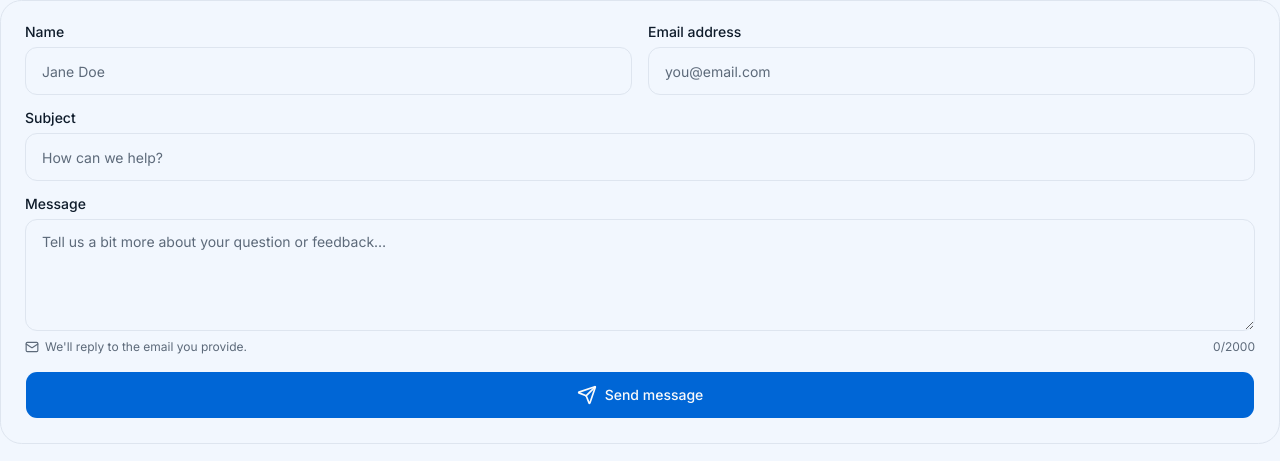
Scenario: ContactForm › shows the success state after a valid submit
The width and height of the screenshot is (1280, 461).
Type "New Visitor" into the field labelled "Name" at (328, 71), box left=25, top=47, right=632, bottom=95
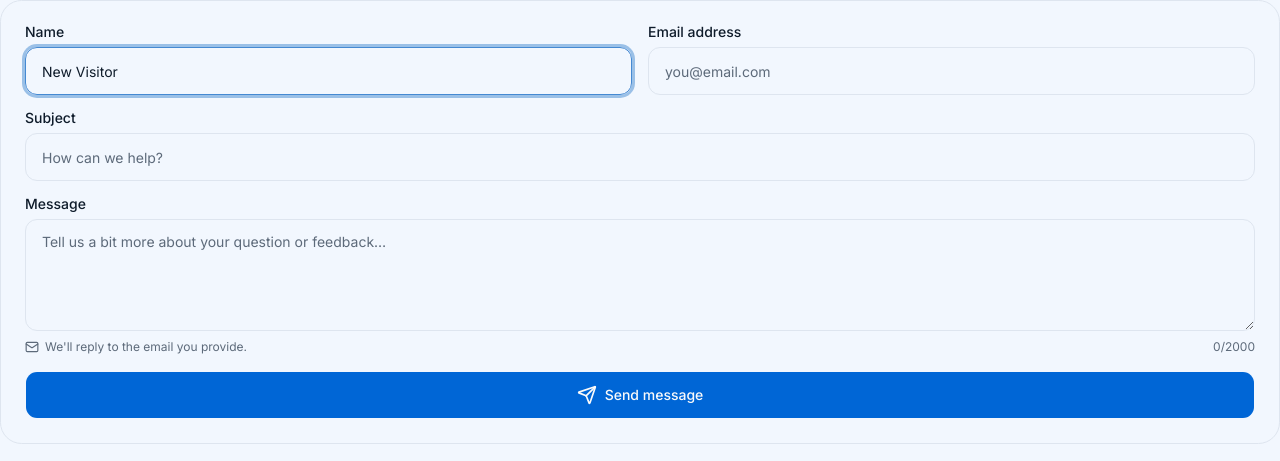
Type "visitor@example.com" into the field labelled "Email address" at (952, 71), box left=648, top=47, right=1255, bottom=95
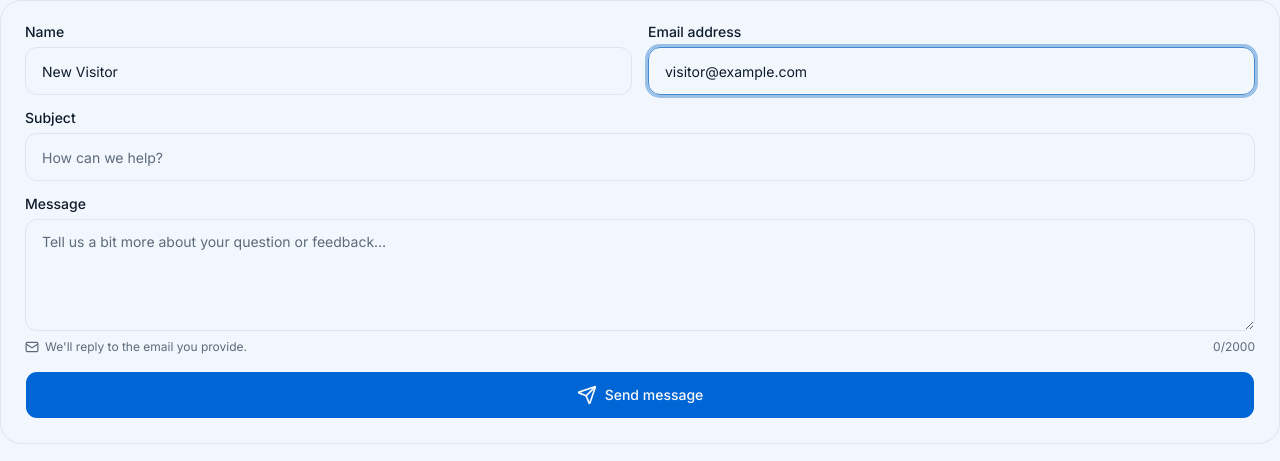
Type "Thanks" into the field labelled "Subject" at (640, 157), box left=25, top=133, right=1255, bottom=181
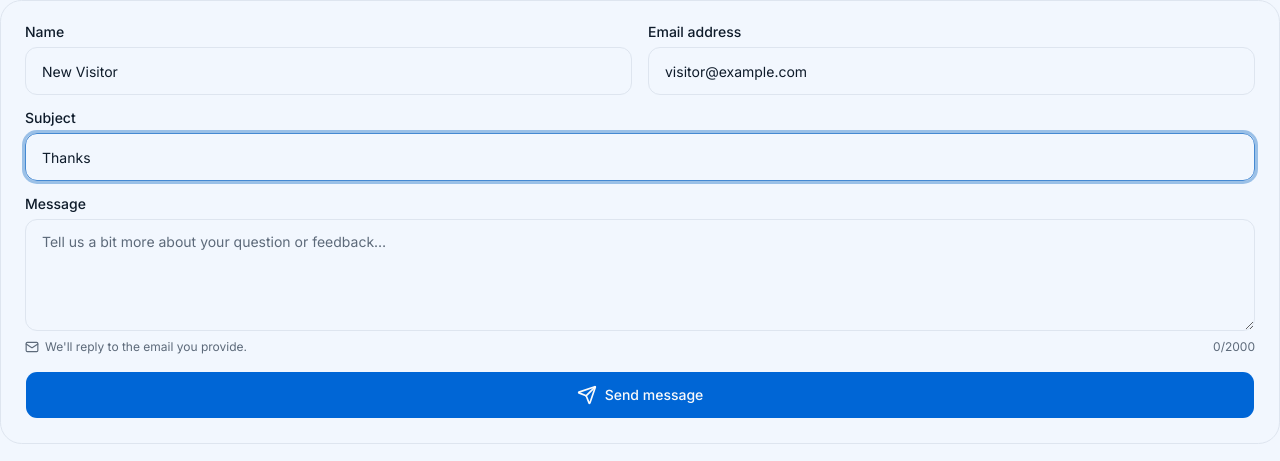
Type "Just submitting a friendly note." into the text box labelled "Message" at (640, 275), box left=25, top=219, right=1255, bottom=331
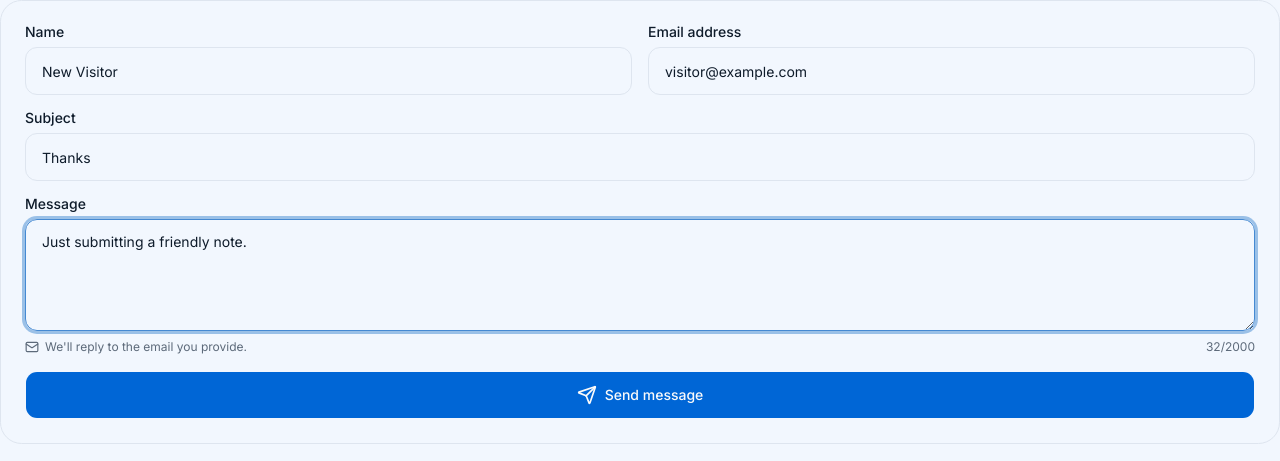
Click the button "Send message" at (640, 395), box left=25, top=371, right=1255, bottom=419
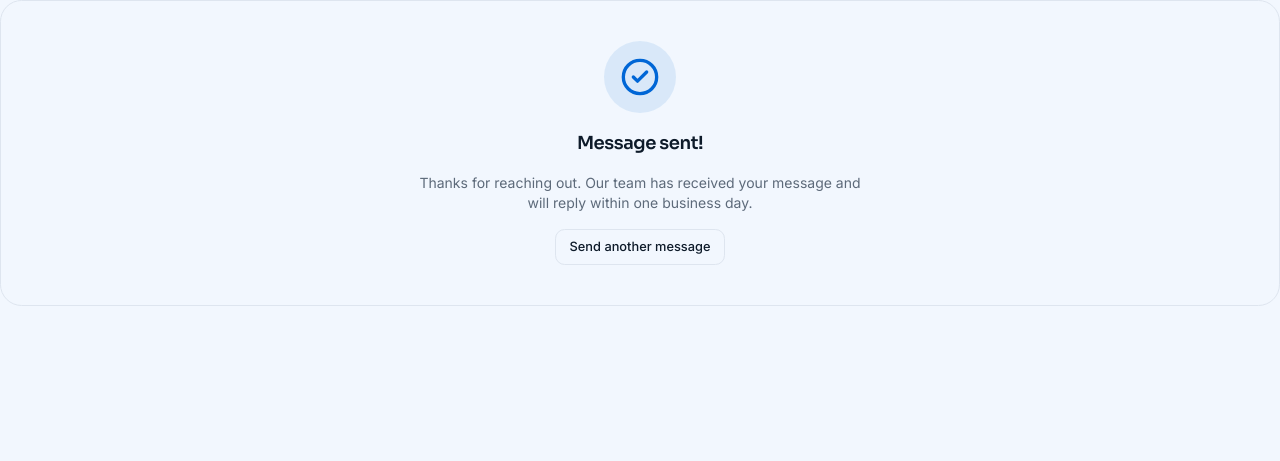
Expected: the heading "Message sent!" is shown, left=577, top=129, right=703, bottom=157
Expected: the button "Send another message" is shown, left=555, top=229, right=725, bottom=265
